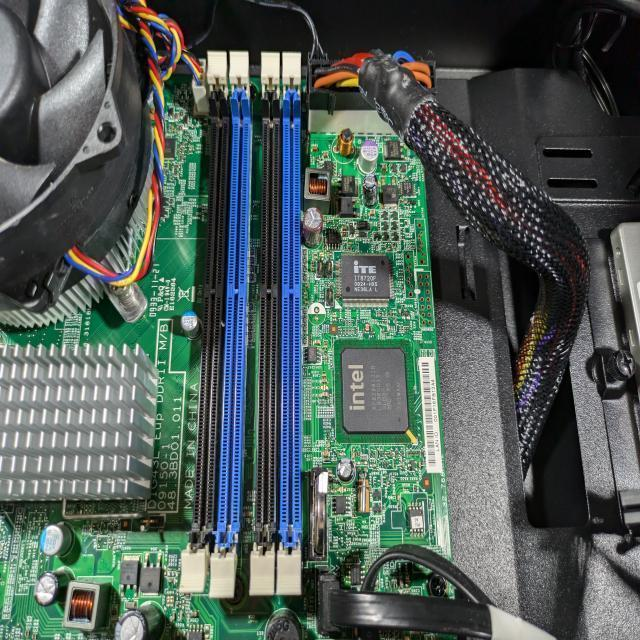CPU_Fan: (0, 0, 160, 329)
Mainboard: (0, 73, 460, 640)
